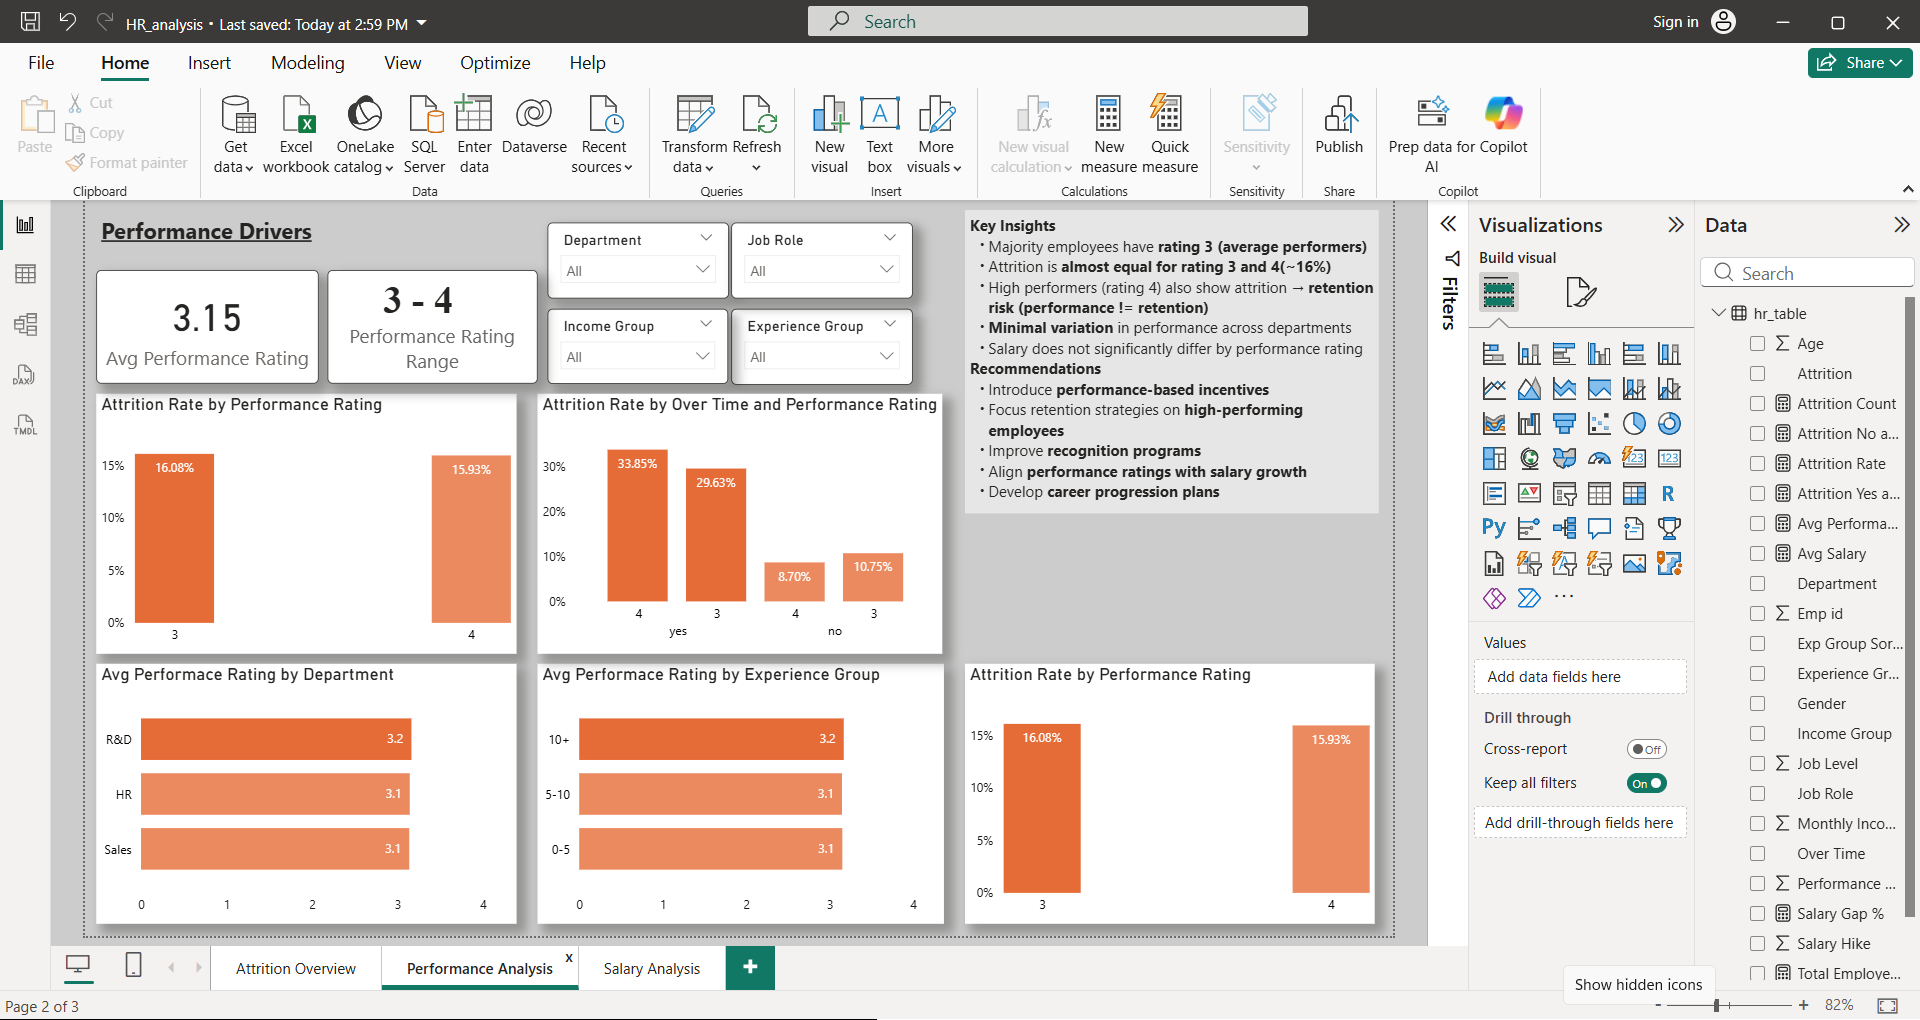

What the dashboard file says about the page in this screenshot:
{"tool":"powerbi","page":{"name":"Performance Analysis","canvas":[1280,720],"ordinal":1},"visuals":[{"type":"clusteredBarChart","fields":{"Category":["hr_table.Experience Group"],"Y":["hr_table.Avg Performace Rating"]},"box":[442.7,453.7,397.4,254.3],"z":0},{"type":"slicer","fields":{"Values":["hr_table.department"]},"box":[452.4,22,177.3,74.6],"z":1000},{"type":"slicer","fields":{"Values":["hr_table.experience_group"]},"box":[632.2,106.4,177.3,74.6],"z":2000},{"type":"slicer","fields":{"Values":["hr_table.income_group"]},"box":[452.4,106.4,177,73.4],"z":3000},{"type":"slicer","fields":{"Values":["hr_table.job_role"]},"box":[632.2,22,177.3,74.6],"z":4000},{"type":"clusteredColumnChart","fields":{"Category":["hr_table.Performance Rating"],"Y":["hr_table.Attrition Rate"]},"box":[11,189.5,410.9,254.3],"z":5000},{"type":"card","fields":{"Values":["Avg(hr_table.Performance Rating)"]},"box":[11,68.5,217.7,111.3],"z":6000},{"type":"clusteredBarChart","fields":{"Category":["hr_table.Department"],"Y":["hr_table.Avg Performace Rating"]},"box":[11,453.7,410.9,254.3],"z":7000},{"type":"clusteredColumnChart","fields":{"Category":["hr_table.Over Time","hr_table.Performance Rating"],"Y":["hr_table.Attrition Rate"]},"box":[442.7,189.5,396.2,254.3],"z":8000},{"type":"clusteredColumnChart","fields":{"Category":["hr_table.Performance Rating"],"Y":["hr_table.Attrition Rate"]},"box":[860.9,453.7,401.1,254.3],"z":9000},{"type":"textbox","box":[237.2,68.5,205.4,111.3],"z":10000},{"type":"textbox","box":[860.9,9.8,404.8,297.1],"z":11000},{"type":"textbox","box":[11,9.8,237.2,50.1],"z":12000}]}

Visuals, with their boxes on the page's 1280x720 design canvas (x1, y1, x2, y2). These are canvas units, not pixel positions in the 1920x1020 screenshot, which may show the page scaled, cropped or inside an application window:
clusteredBarChart - hr_table.Experience Group x hr_table.Avg Performace Rating: left=443, top=454, right=840, bottom=708
slicer - hr_table.department: left=452, top=22, right=630, bottom=97
slicer - hr_table.experience_group: left=632, top=106, right=810, bottom=181
slicer - hr_table.income_group: left=452, top=106, right=629, bottom=180
slicer - hr_table.job_role: left=632, top=22, right=810, bottom=97
clusteredColumnChart - hr_table.Performance Rating x hr_table.Attrition Rate: left=11, top=190, right=422, bottom=444
card - Avg(hr_table.Performance Rating): left=11, top=68, right=229, bottom=180
clusteredBarChart - hr_table.Department x hr_table.Avg Performace Rating: left=11, top=454, right=422, bottom=708
clusteredColumnChart - hr_table.Over Time x hr_table.Performance Rating: left=443, top=190, right=839, bottom=444
clusteredColumnChart - hr_table.Performance Rating x hr_table.Attrition Rate: left=861, top=454, right=1262, bottom=708
textbox: left=237, top=68, right=443, bottom=180
textbox: left=861, top=10, right=1266, bottom=307
textbox: left=11, top=10, right=248, bottom=60
